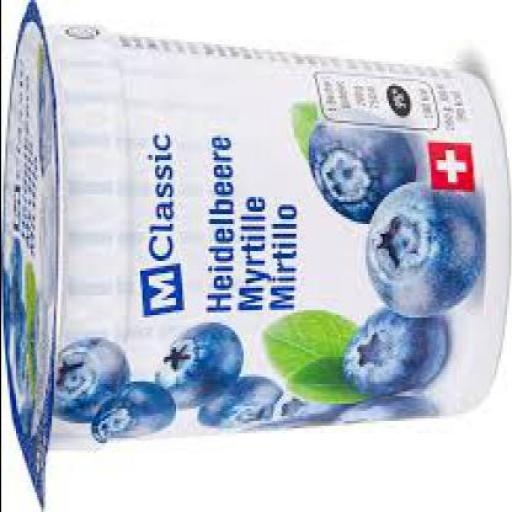plastic: (1, 1, 511, 511)
